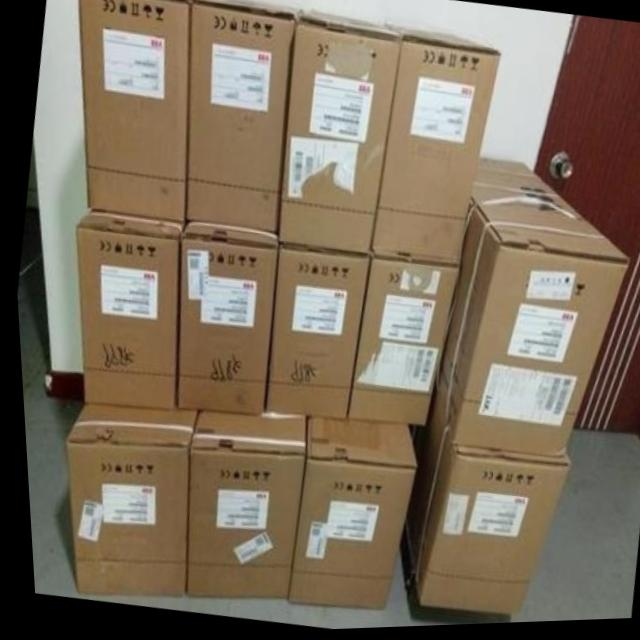box: (431, 161, 624, 461), (400, 388, 563, 619), (370, 24, 500, 266), (275, 11, 398, 256), (181, 0, 302, 230), (79, 0, 203, 224), (281, 417, 410, 611), (61, 404, 192, 595), (180, 411, 300, 601), (72, 213, 179, 412), (171, 223, 273, 413), (344, 263, 457, 425), (263, 245, 365, 418)
